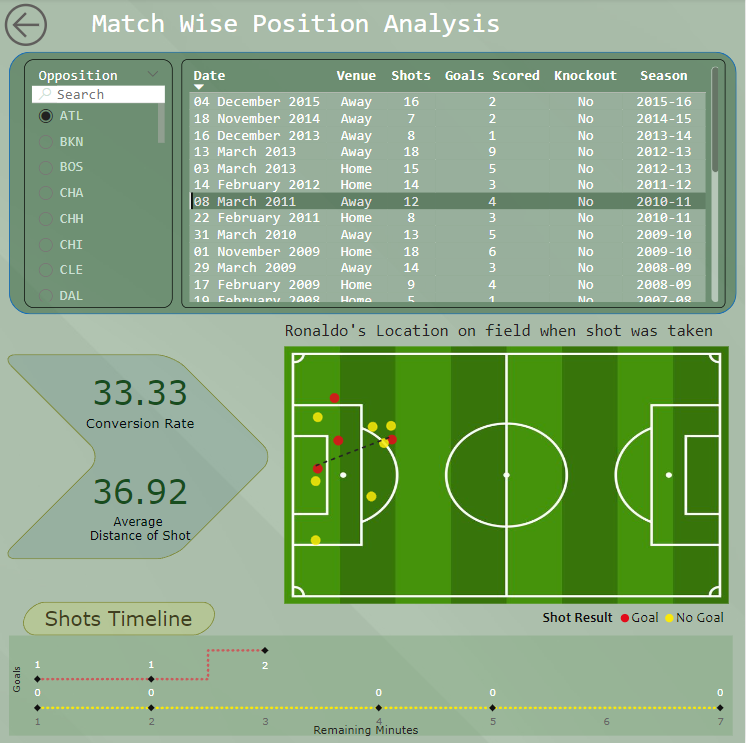

Layout of this report page (visuals, bound fields, positions):
{"tool":"powerbi","page":{"name":"Position Analysis","canvas":[900,900],"ordinal":1},"visuals":[{"type":"shape","box":[0,0,900,900],"z":0},{"type":"shape","box":[12.1,64.8,877.4,316.6],"z":1000},{"type":"scatterChart","title":"Ronaldo''s Location on field when shot was taken","fields":{"X":["RONALDO_YDS_TB_INSERT.LOCATION_Y"],"Y":["RONALDO_YDS_TB_INSERT.LOCATION_X"],"Series":["RONALDO_YDS_TB_INSERT.BIN_IS_GOAL"]},"box":[339.2,388.9,545.7,379.9],"z":2000},{"type":"slicer","fields":{"Values":["RONALDO_YDS_TB_INSERT.OPPONENT_TEAM"]},"box":[30.2,73.9,179.4,300],"z":3000},{"type":"tableEx","fields":{"Values":["RONALDO_YDS_TB_INSERT.DATE_OF_GAME","RONALDO_YDS_TB_INSERT.DISP_IS_AWAY_MATCH","RONALDO_YDS_TB_INSERT.TOTAL_SHOTS_TAKEN","RONALDO_YDS_TB_INSERT.IS_GOAL","RONALDO_YDS_TB_INSERT.KNOCKOUT_MATCH","RONALDO_YDS_TB_INSERT.GAME_SEASON"]},"box":[220.1,73.9,655.8,300],"z":4000},{"type":"actionButton","box":[0,0,107,64.8],"z":5000},{"type":"textbox","box":[107,6,541.2,79.9],"z":6000},{"type":"card","fields":{"Values":["RONALDO_YDS_TB_INSERT.Conversion_Rate"]},"box":[87.4,429.6,165.8,110.1],"z":7000},{"type":"lineChart","fields":{"Category":["RONALDO_YDS_TB_INSERT.REMAINING_MIN","RONALDO_YDS_TB_INSERT.REMAINING_SEC"],"Y":["RONALDO_YDS_TB_INSERT.IS_GOAL"],"Series":["RONALDO_YDS_TB_INSERT.IS_GOAL"]},"box":[12.1,768.8,872.9,120.6],"z":8000},{"type":"card","fields":{"Values":["RONALDO_YDS_TB_INSERT.Avg_Distance_of_Shot"]},"box":[99.5,529.1,141.7,149.2],"z":9000},{"type":"textbox","box":[373.9,868.3,150.8,31.7],"z":10000},{"type":"textbox","box":[49.7,728.1,241.2,52.8],"z":11000},{"type":"shape","box":[0,429.6,333.2,247.2],"z":12000},{"type":"shape","box":[24.1,728.1,241.2,40.7],"z":13000}]}

Visuals, with their boxes in screenshot pixels (x1, y1, x2, y2), scaled from the page's 900x900 canvas onto the 746x743 screenshot:
shape: <bbox>0, 0, 745, 742</bbox>
shape: <bbox>10, 53, 737, 315</bbox>
"Ronaldo''s Location on field when shot was taken" scatterChart: <bbox>281, 321, 733, 635</bbox>
slicer - RONALDO_YDS_TB_INSERT.OPPONENT_TEAM: <bbox>25, 61, 174, 309</bbox>
tableEx - RONALDO_YDS_TB_INSERT.DATE_OF_GAME x RONALDO_YDS_TB_INSERT.DISP_IS_AWAY_MATCH: <bbox>182, 61, 726, 309</bbox>
actionButton: <bbox>0, 0, 89, 53</bbox>
textbox: <bbox>89, 5, 537, 71</bbox>
card - RONALDO_YDS_TB_INSERT.Conversion_Rate: <bbox>72, 355, 210, 446</bbox>
lineChart - RONALDO_YDS_TB_INSERT.REMAINING_MIN x RONALDO_YDS_TB_INSERT.REMAINING_SEC: <bbox>10, 635, 734, 734</bbox>
card - RONALDO_YDS_TB_INSERT.Avg_Distance_of_Shot: <bbox>82, 437, 200, 560</bbox>
textbox: <bbox>310, 717, 435, 742</bbox>
textbox: <bbox>41, 601, 241, 645</bbox>
shape: <bbox>0, 355, 276, 559</bbox>
shape: <bbox>20, 601, 220, 635</bbox>
